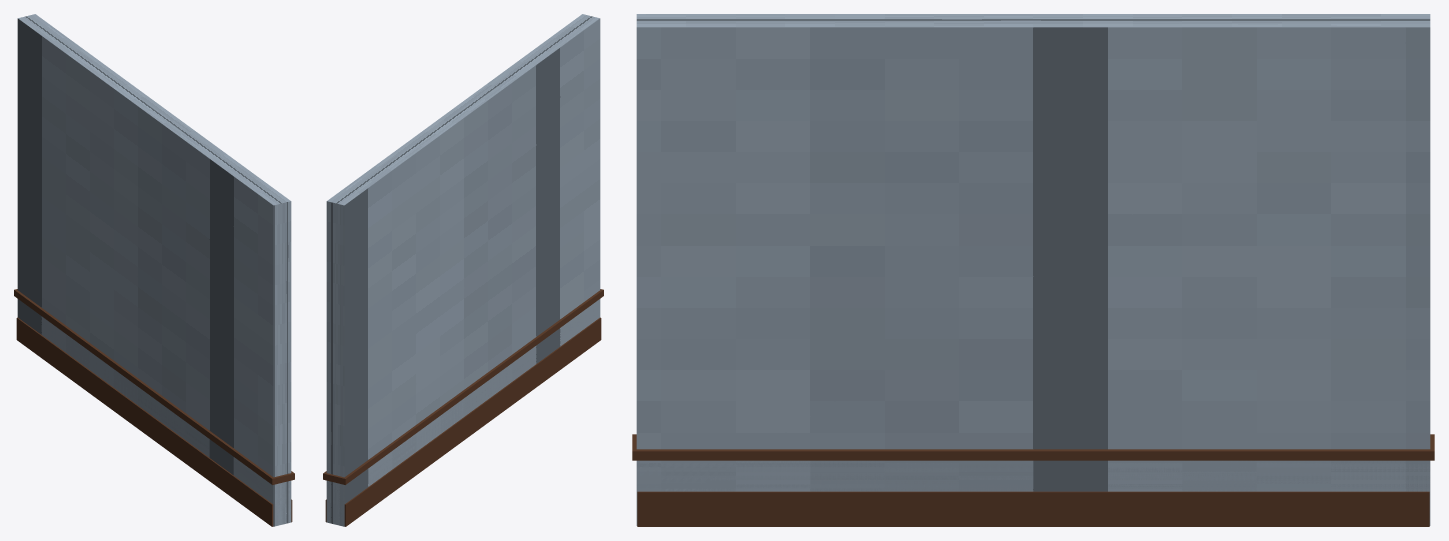
The model's file is back2.glb.
3 views of the same model, side by side, from view 1: azimuth 30°, elevation 25°; view 2: azimuth 150°, elevation 25°; view 3: azimuth 270°, elevation 25° (orthographic). The views are drawn at different scales.
Parts seen in each view (by area): view 1: Box1, Box2, Box3, Box4; view 2: Box1, Box2, Box4, Box3; view 3: Box1, Box2, Box3, Box4.
Boxes of the visible parts, bbox=[...] form: Box1: bbox=[17, 14, 291, 526]; Box2: bbox=[16, 317, 292, 526]; Box3: bbox=[19, 302, 291, 526]; Box4: bbox=[14, 289, 294, 484]; Box1: bbox=[326, 14, 600, 526]; Box2: bbox=[325, 317, 601, 526]; Box4: bbox=[323, 289, 603, 484]; Box3: bbox=[326, 304, 598, 526]; Box1: bbox=[636, 14, 1430, 525]; Box2: bbox=[637, 491, 1429, 526]; Box3: bbox=[636, 460, 1430, 524]; Box4: bbox=[632, 434, 1434, 460].
Bounding box in the file's own units: 0.19 × 2.6 × 3.79.
Materials: 2 (1 with a texture image).
